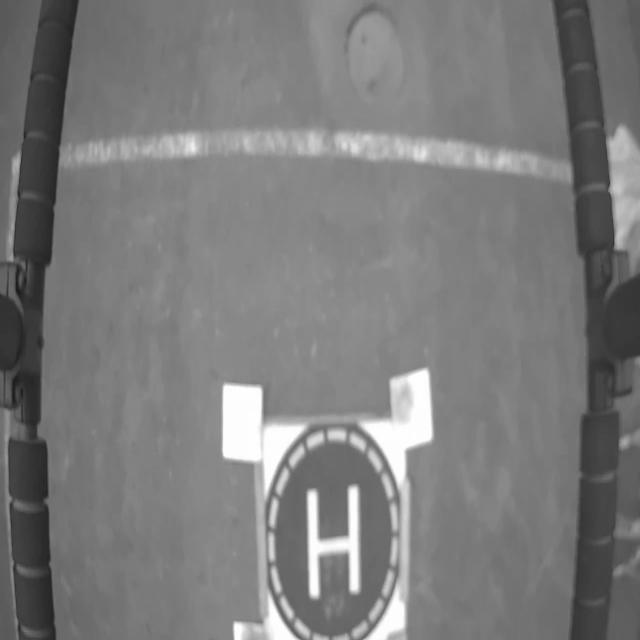Helipad: (307, 482, 362, 599)
